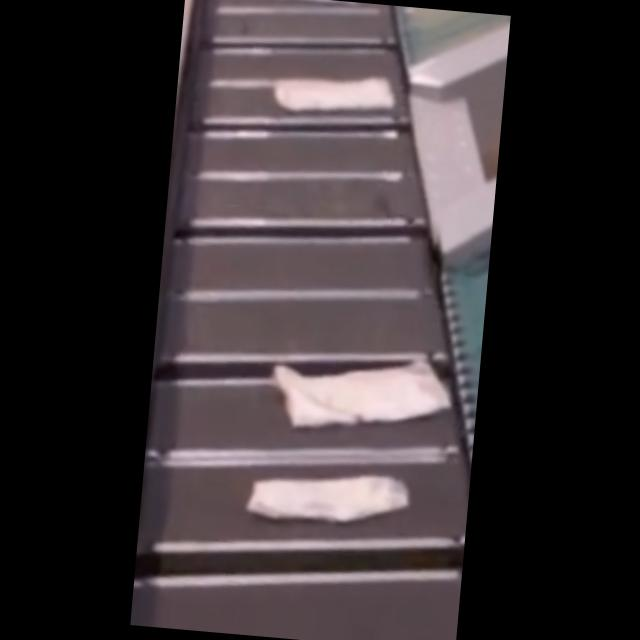mailer: (274, 348, 448, 438), (242, 460, 409, 534), (276, 68, 394, 122)
